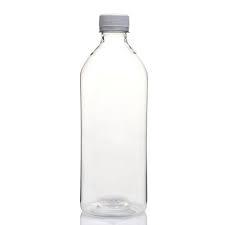Plastic: (80, 14, 147, 216)
